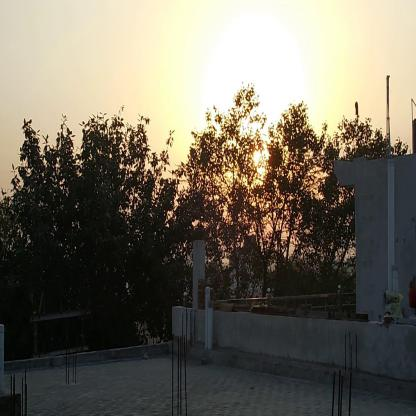other: (197, 38, 311, 193)
